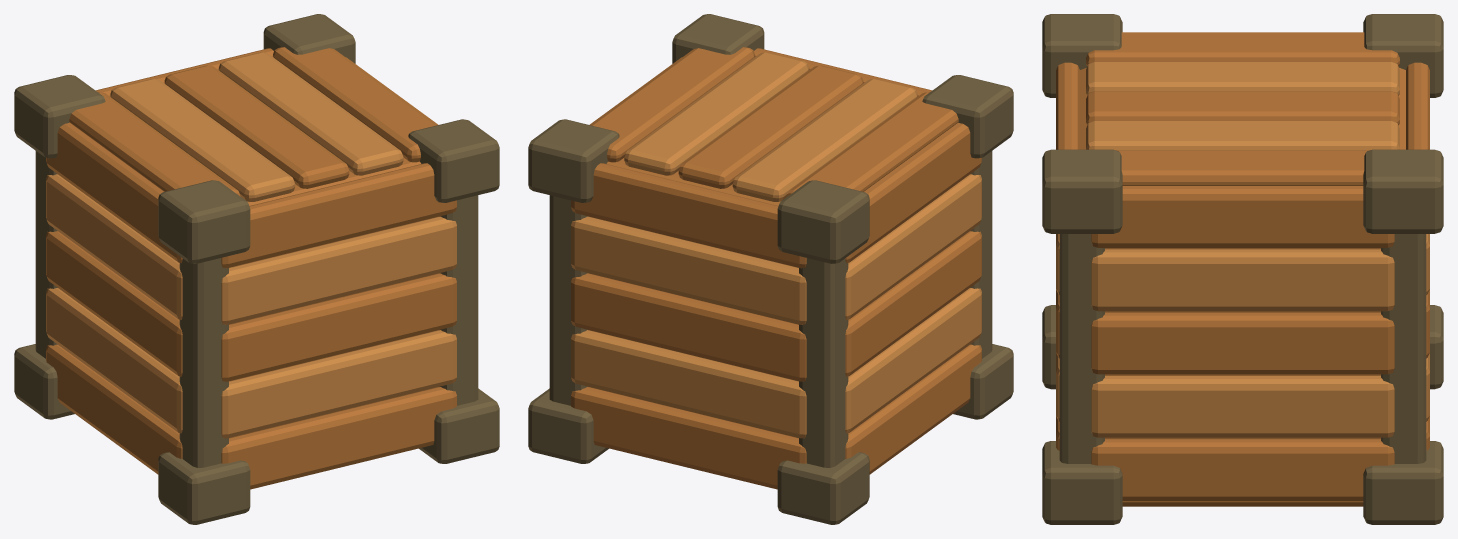
Rendered from SupplyCrate.fbx.
3 views of the same model, side by side, from view 1: azimuth 30°, elevation 25°; view 2: azimuth 150°, elevation 25°; view 3: azimuth 270°, elevation 25° (orthographic). The views are drawn at different scales.
Visible parts, largest first — view 1: SupplyCrate; view 2: SupplyCrate; view 3: SupplyCrate.
Part boxes in pixels (left/top/right/bottom): SupplyCrate: left=14, top=14, right=499, bottom=524; SupplyCrate: left=528, top=14, right=1013, bottom=524; SupplyCrate: left=1042, top=14, right=1443, bottom=524.
Size of the model in its own units: 115 by 110 by 115.
